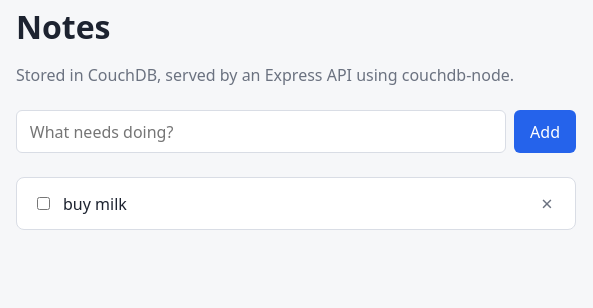
App › adds a note and clears the input
The image size is (593, 308).
Type "walk dog" into the field named "New note" at (261, 132), box [16, 110, 506, 153]
Then press Enter
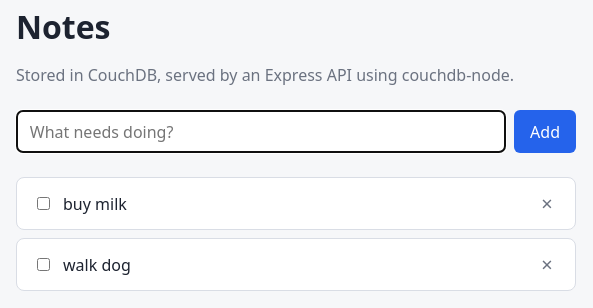
Check: the text "walk dog" is shown, box [63, 254, 131, 276]
